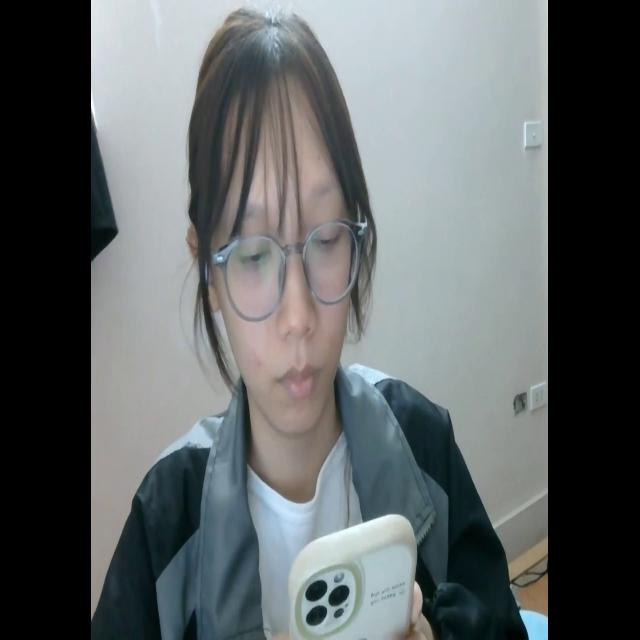phone: (284, 513, 416, 640)
student: (101, 13, 529, 640)
